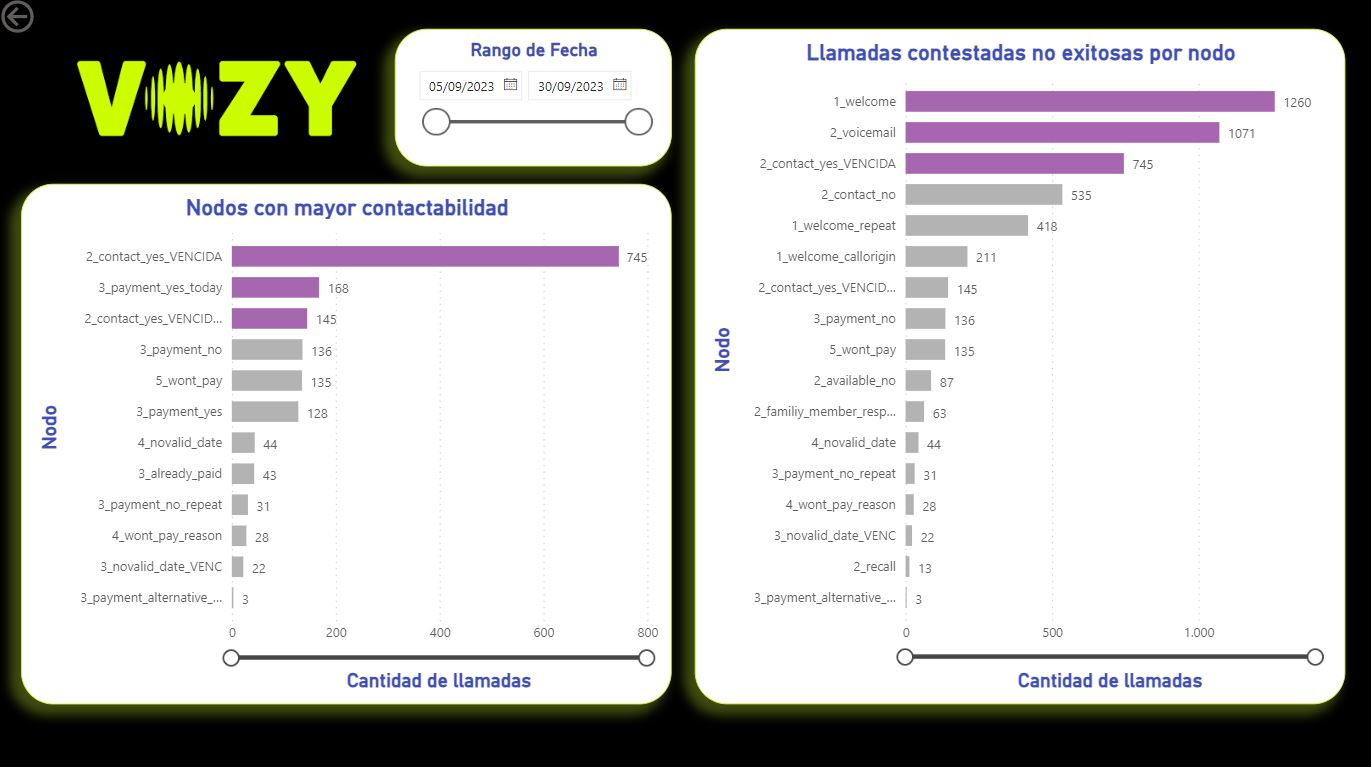

This screenshot's page, from the dashboard's own definition file:
{"tool":"powerbi","page":{"name":"8","canvas":[1280,720],"ordinal":3},"visuals":[{"type":"slicer","title":"Rango de Fecha","fields":{"Values":["df_powerbi.date"]},"box":[370.8,31.6,257.3,127.9],"z":0},{"type":"barChart","title":"Llamadas contestadas no exitosas por nodo","fields":{"Category":["df_powerbi.LastNode"],"Y":["CountNonNull(df_powerbi.session_id)"]},"box":[649.6,31.6,605.1,628.1],"z":1000},{"type":"actionButton","box":[0,0,100,40],"z":2000},{"type":"image","box":[50.3,17.2,303.3,158.1],"z":3001},{"type":"barChart","title":"Nodos con mayor contactabilidad","fields":{"Category":["df_powerbi.LastNode"],"Y":["CountNonNull(df_powerbi.session_id)"]},"box":[23,175.3,605.1,484.4],"z":3002}]}

Visuals, with their boxes in screenshot pixels (x1, y1, x2, y2), scaled from the page's 1280x720 canvas onto the 1371x767 screenshot:
"Rango de Fecha" slicer: locate(397, 34, 673, 170)
"Llamadas contestadas no exitosas por nodo" barChart: locate(696, 34, 1344, 703)
actionButton: locate(0, 0, 107, 43)
image: locate(54, 18, 379, 187)
"Nodos con mayor contactabilidad" barChart: locate(25, 187, 673, 703)
